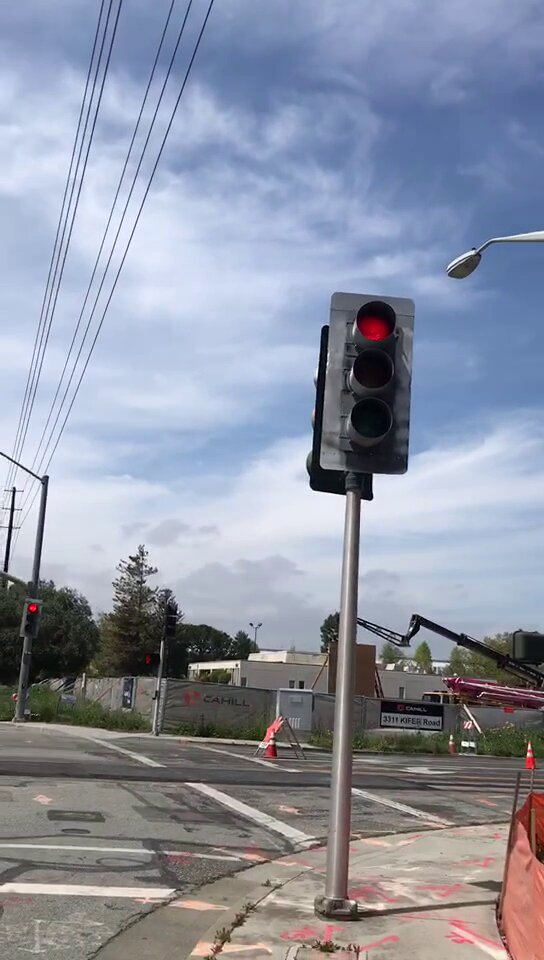red_light: (335, 299, 409, 469), (26, 600, 40, 636)
